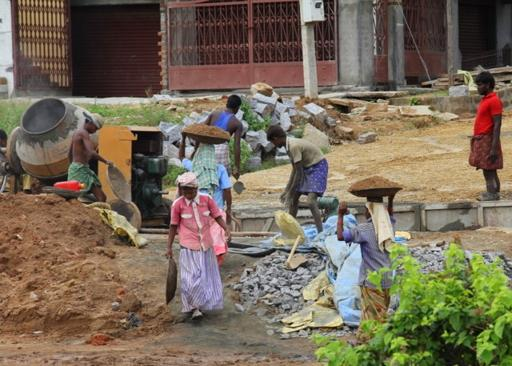unsafe person: (334, 167, 411, 327), (164, 170, 230, 319), (265, 122, 336, 219), (68, 97, 131, 201), (472, 71, 506, 196), (178, 116, 242, 173), (210, 94, 251, 128)
